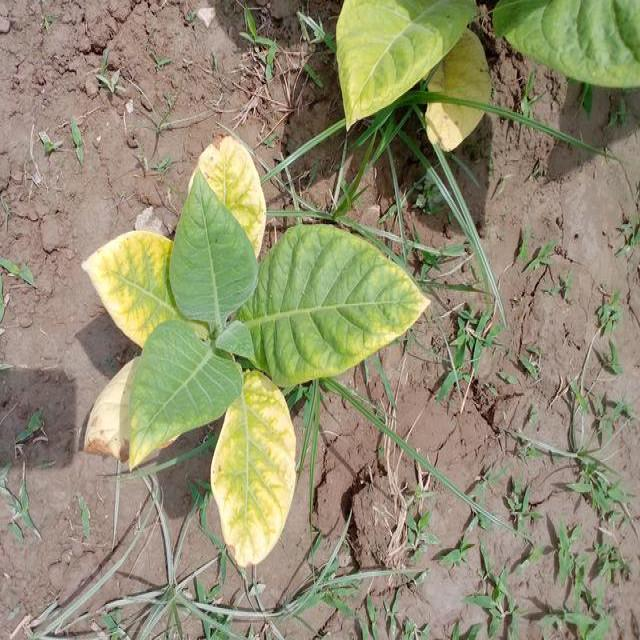crop: (80, 150, 427, 566)
